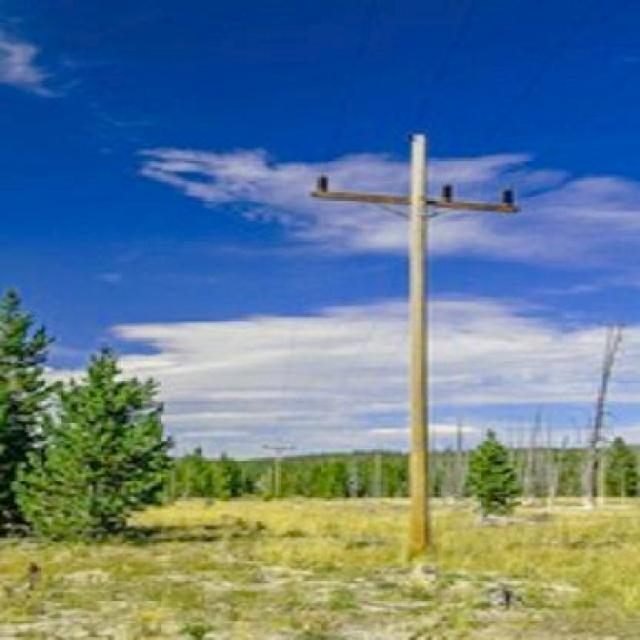crossarm: (309, 175, 520, 214)
pole: (405, 134, 438, 566)
